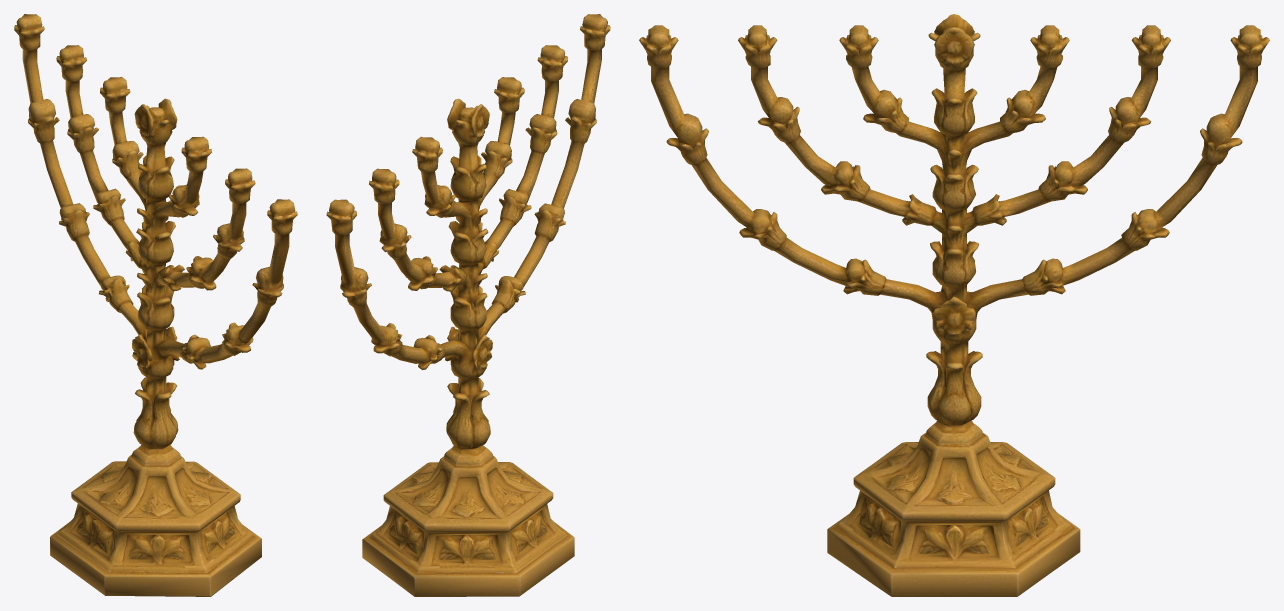
Rendered from sanctuary-lampstand-tripo-v31-v1.glb.
3 views of the same model, side by side, from view 1: azimuth 30°, elevation 25°; view 2: azimuth 150°, elevation 25°; view 3: azimuth 270°, elevation 25° (orthographic). The views are drawn at different scales.
Visible parts, largest first — view 1: tripo_node_186b62a7-1dcf-443c-837f-42cbeea3062d; view 2: tripo_node_186b62a7-1dcf-443c-837f-42cbeea3062d; view 3: tripo_node_186b62a7-1dcf-443c-837f-42cbeea3062d.
Part boxes in pixels (<box>): tripo_node_186b62a7-1dcf-443c-837f-42cbeea3062d: <box>14,14,297,596</box>; tripo_node_186b62a7-1dcf-443c-837f-42cbeea3062d: <box>326,14,610,596</box>; tripo_node_186b62a7-1dcf-443c-837f-42cbeea3062d: <box>639,14,1269,596</box>.
Bounding box in the file's own units: 0.3151 × 0.8728 × 0.9374.
1 material, 1 textured.
